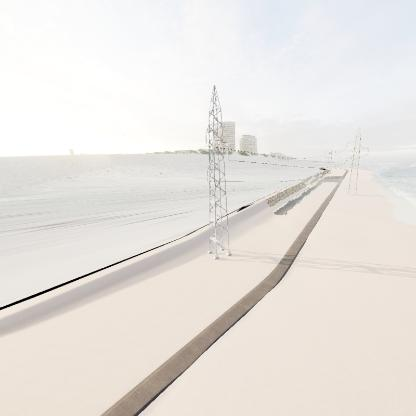tower: (196, 79, 236, 259), (344, 122, 370, 194)
